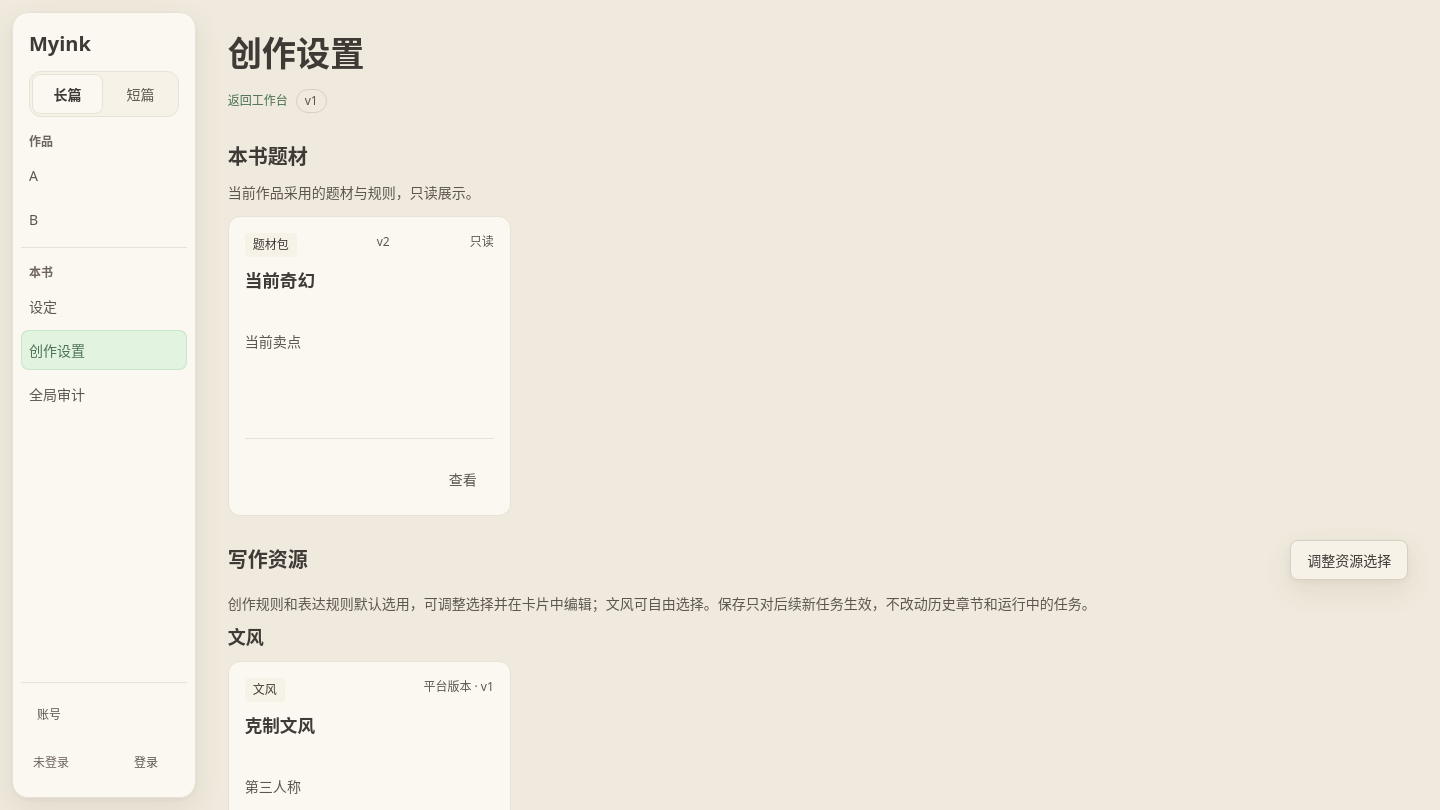
Test case: shows all current genre details read only instead of the old creation genre
Expected: the heading "文风" is shown, [228,625,264,649]
Expected: the text "失踪之谜" is not shown
Click the button with aria-label "查看 当前奇幻".
click(463, 479)  # box [432,459,494,499]
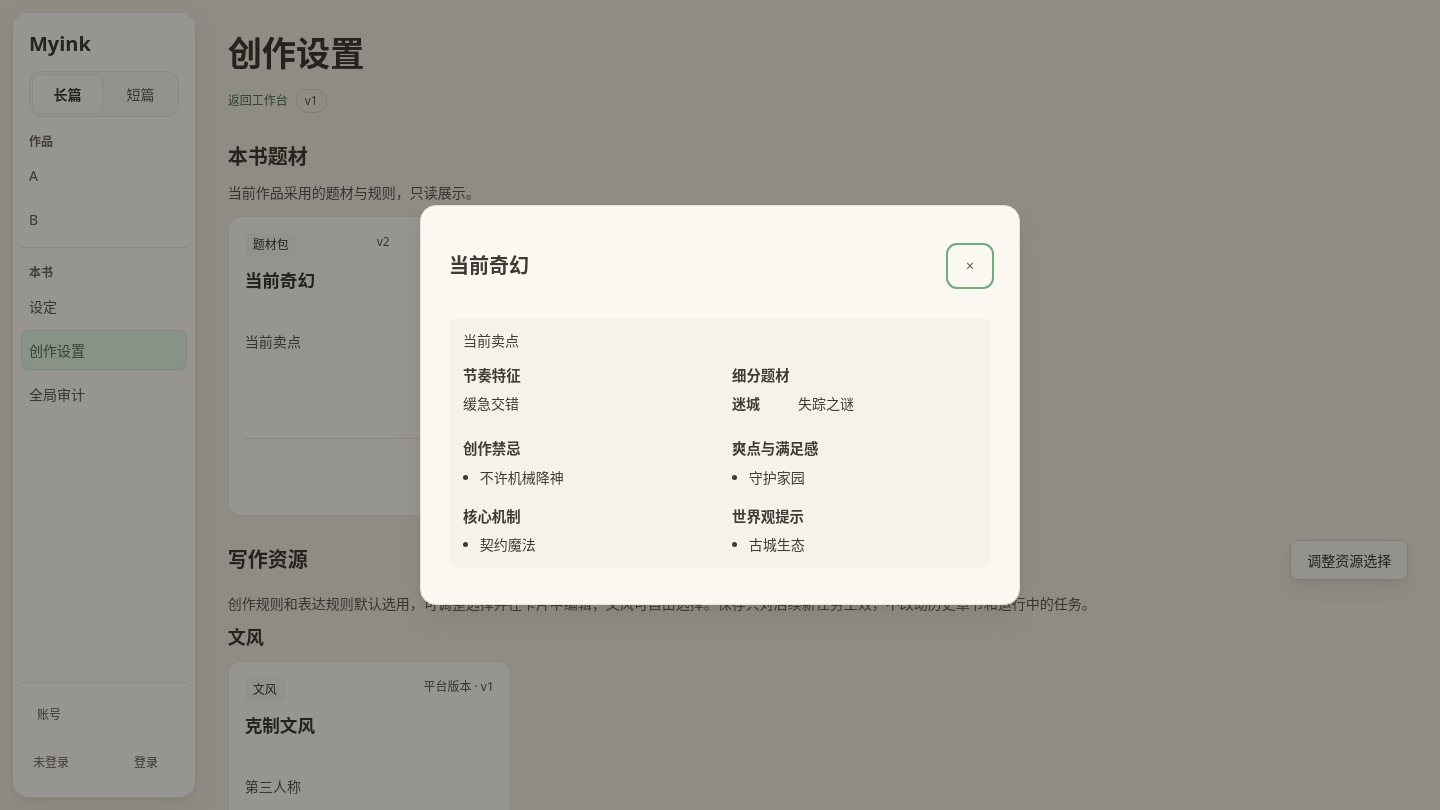
Expected: the text "当前卖点" is shown, [463,331,519,350]
Expected: the text "缓急交错" is shown, [463,394,519,413]
Expected: the text "迷城" is shown, [732,394,760,413]
